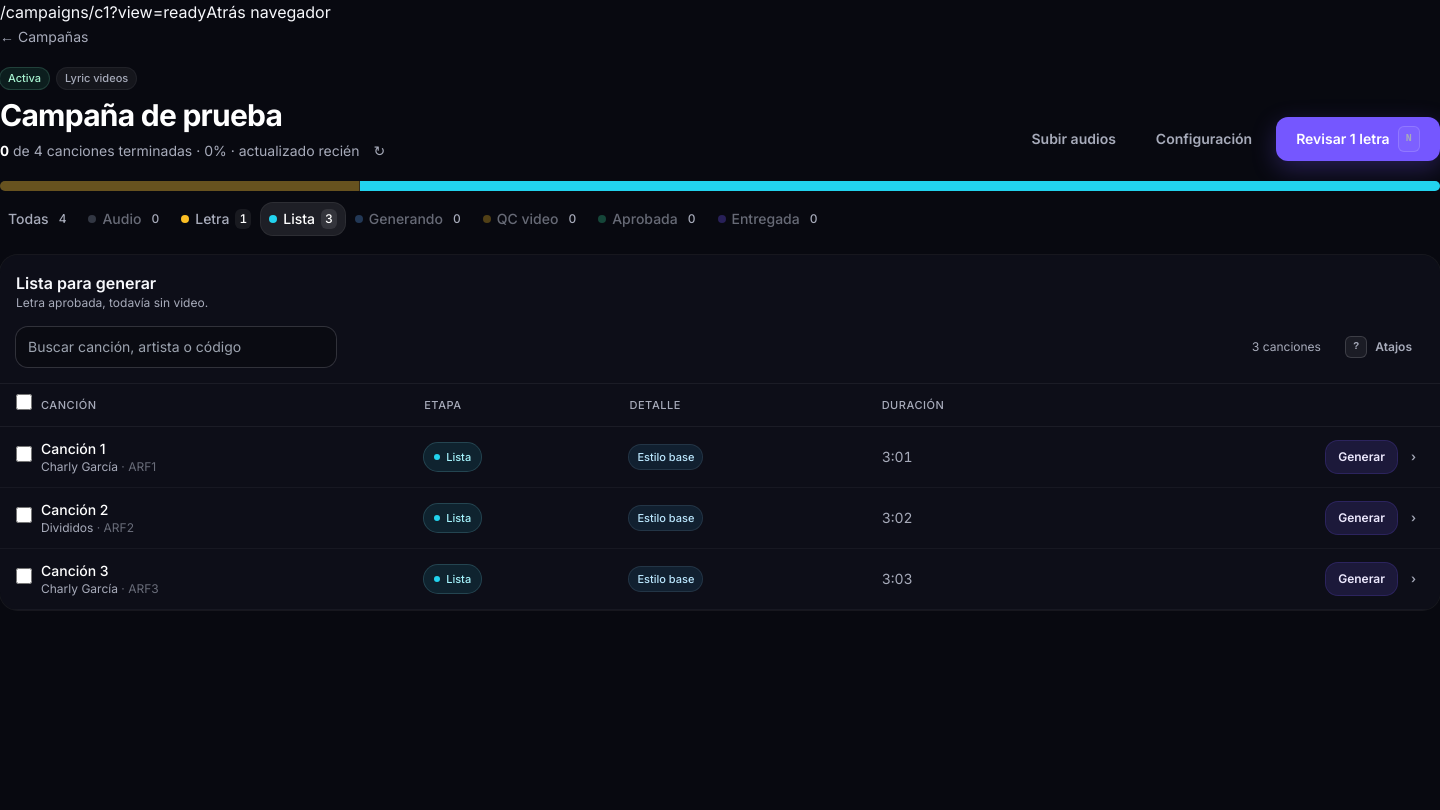
campaign workspace › generates only ready songs, keeps deferred ones selected when the render window fills
Expected: the button "Canción 3" is shown, x1=41 y1=560 x2=109 y2=580
Click the checkbox named "Seleccionar 3 canciones" at (24, 402), box x1=16 y1=394 x2=32 y2=410
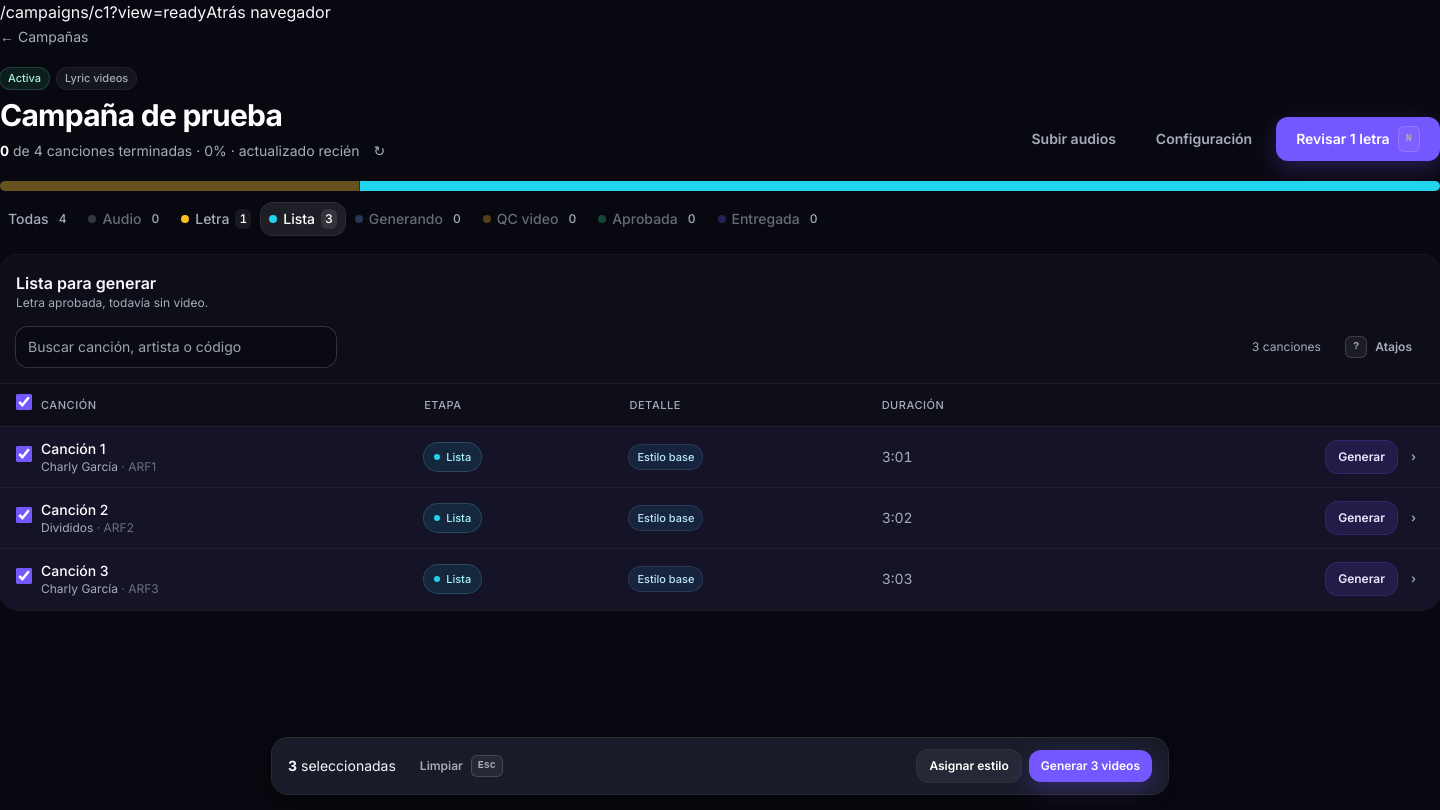
Click the button "Generar 3 videos" at (1090, 766), box x1=1029 y1=750 x2=1152 y2=782
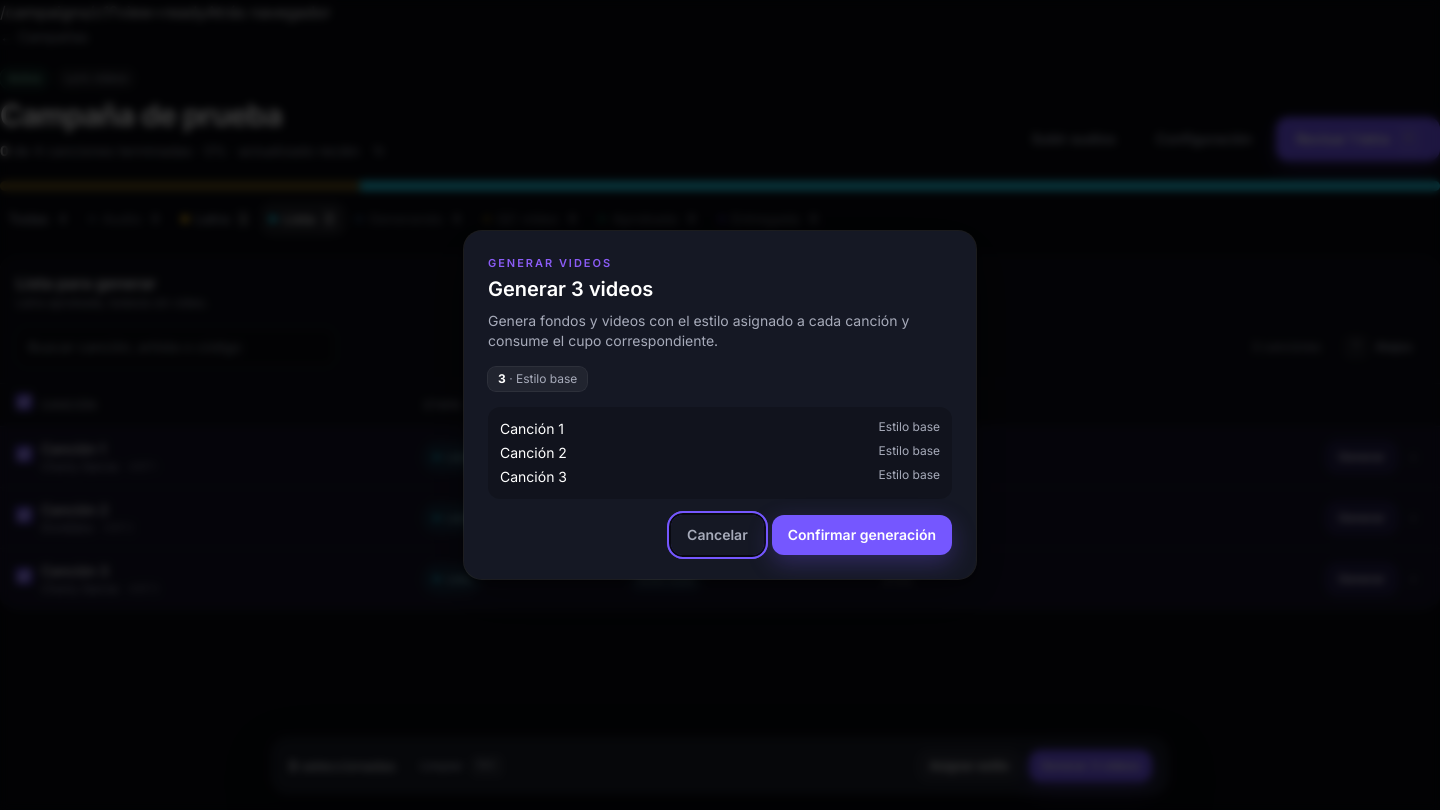
Click the button "Confirmar generación" at (862, 535), box x1=772 y1=515 x2=952 y2=555
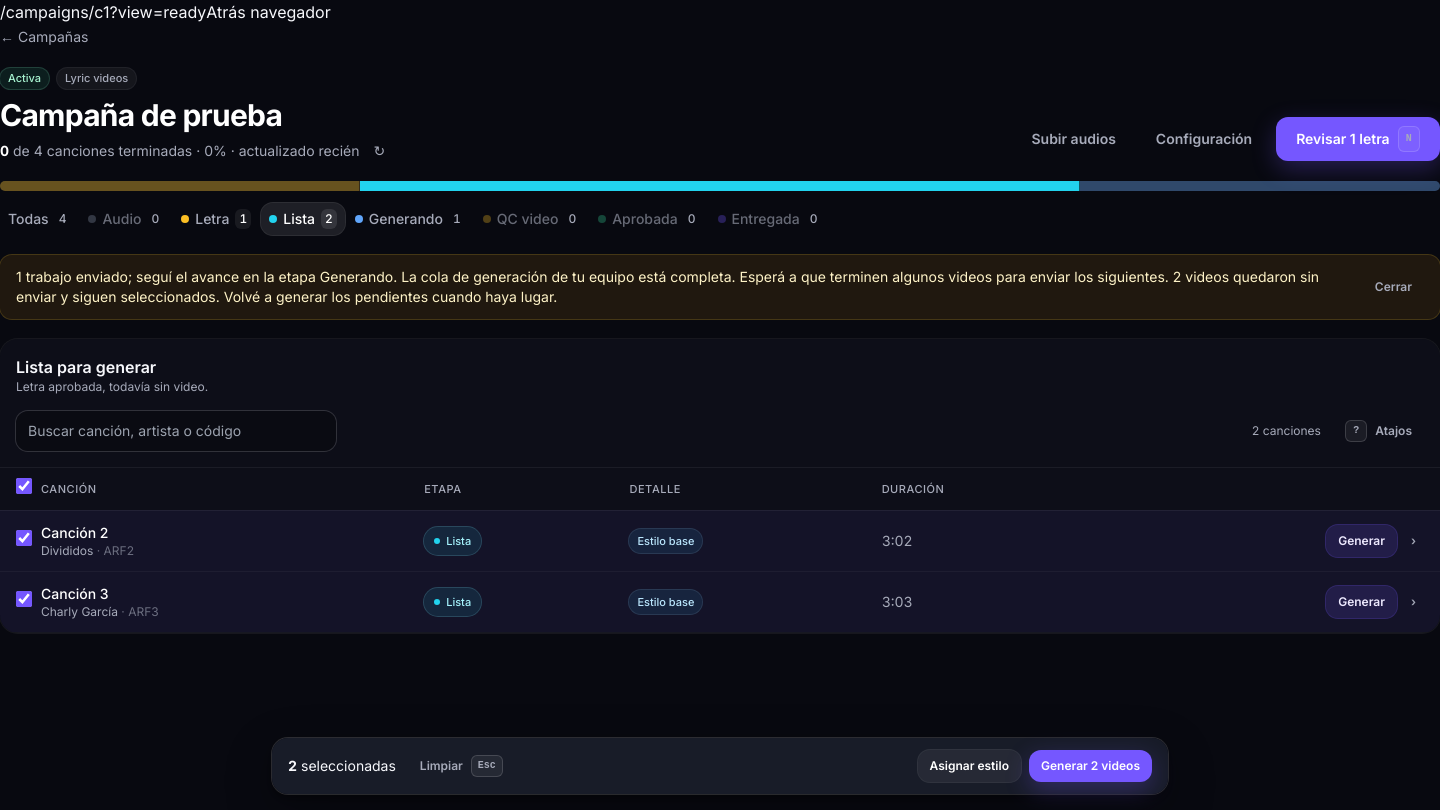
Expected: the text "2 videos quedaron sin enviar y siguen seleccionados" is shown, x1=16 y1=268 x2=1319 y2=304
Expected: the text "2" next to "seleccionadas" is shown, x1=288 y1=757 x2=297 y2=774
